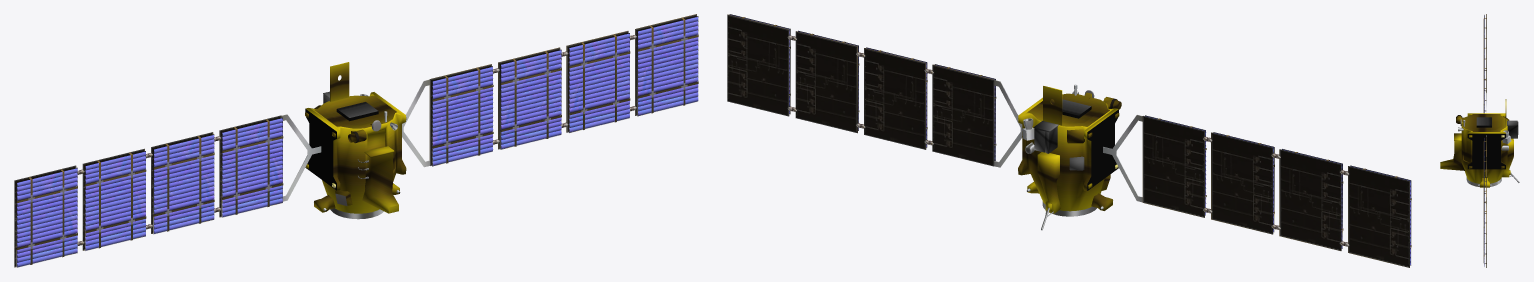
Rendered from DeepSpace1.obj.
3 renders of one model, left to right at view 1: azimuth 30°, elevation 25°; view 2: azimuth 150°, elevation 25°; view 3: azimuth 270°, elevation 25°, orthographic. The views are drawn at different scales.
Visible parts, largest first — view 1: shiny_panel, tex_01, foil_gold, black_krinkle, foil_silver; view 2: tex_01, foil_gold, black_krinkle, foil_silver, shiny_panel; view 3: foil_gold, black_krinkle, tex_01, foil_silver, shiny_panel.
Part boxes in pixels (bbox=[...]): shiny_panel: bbox=[17, 17, 698, 267]; tex_01: bbox=[14, 14, 698, 267]; foil_gold: bbox=[305, 62, 406, 213]; black_krinkle: bbox=[305, 109, 378, 190]; foil_silver: bbox=[323, 91, 377, 178]; tex_01: bbox=[727, 14, 1411, 267]; foil_gold: bbox=[1018, 86, 1121, 213]; black_krinkle: bbox=[1062, 106, 1118, 190]; foil_silver: bbox=[1033, 99, 1090, 170]; shiny_panel: bbox=[730, 14, 1410, 265]; foil_gold: bbox=[1440, 99, 1513, 187]; black_krinkle: bbox=[1467, 125, 1505, 169]; tex_01: bbox=[1456, 14, 1519, 267]; foil_silver: bbox=[1476, 117, 1518, 138]; shiny_panel: bbox=[1484, 15, 1484, 266].
Size of the model in its own units: 11.8 by 2.22 by 1.96.
5 materials, 4 textured.
